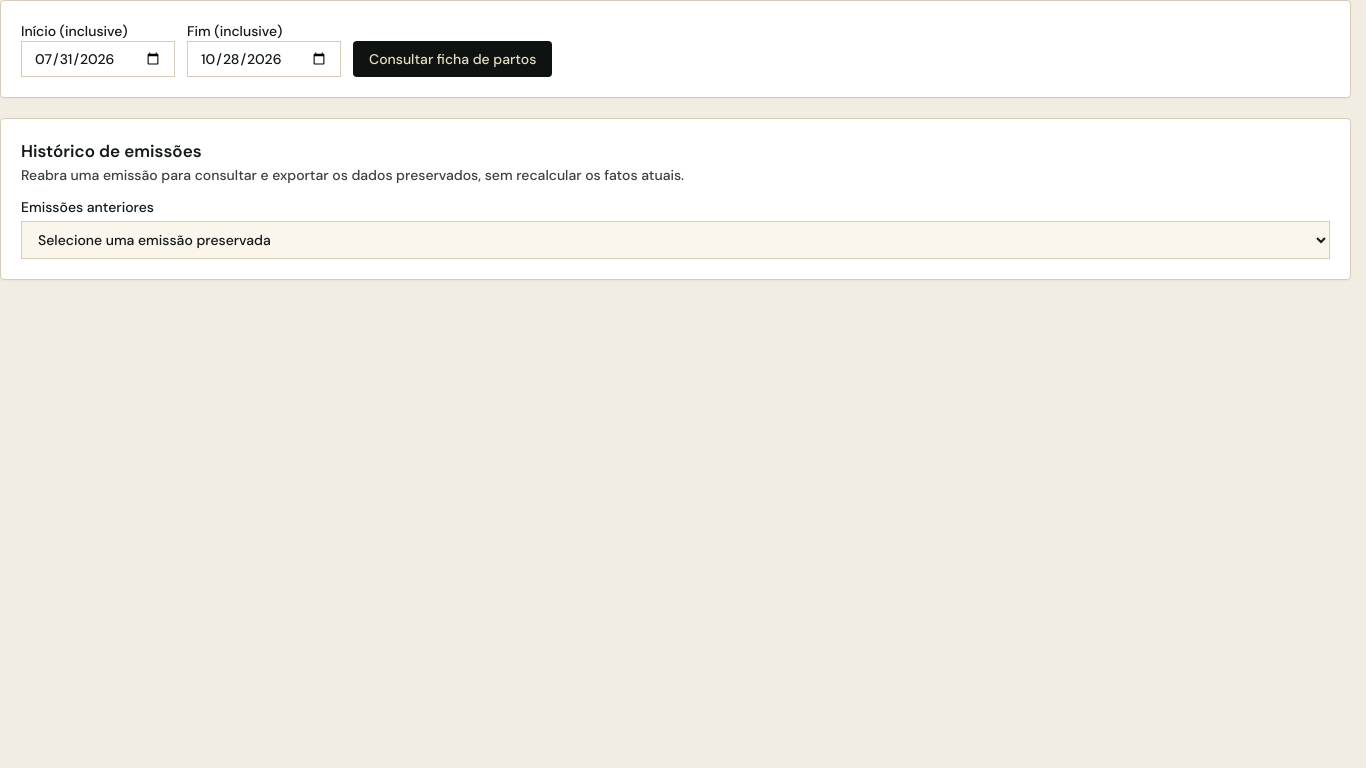
Scenario: reabrir emissão reflete o período salvo nos filtros sem gravar ou recalcular
The image size is (1366, 768).
Select "02/01/2026, 12:00:00" in the dropdown labelled "Emissões anteriores" at (676, 240), box top-left (21, 220), bottom-right (1330, 258)
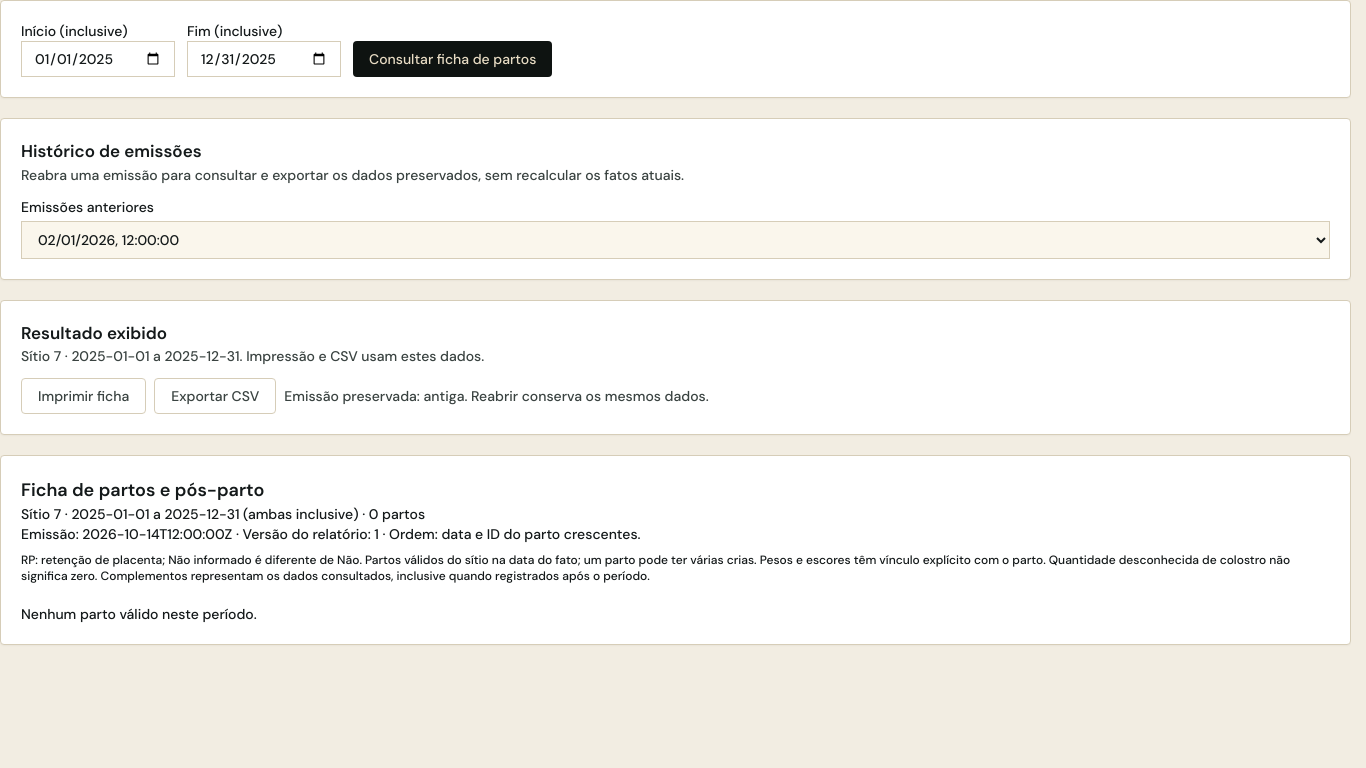
Check: the text "Emissão preservada: antiga" is shown, box top-left (284, 387), bottom-right (709, 405)
Check: the date field labelled "Início (inclusive)" holds "2025-01-01", box top-left (21, 41), bottom-right (175, 77)
Check: the date field labelled "Fim (inclusive)" holds "2025-12-31", box top-left (187, 41), bottom-right (341, 77)
